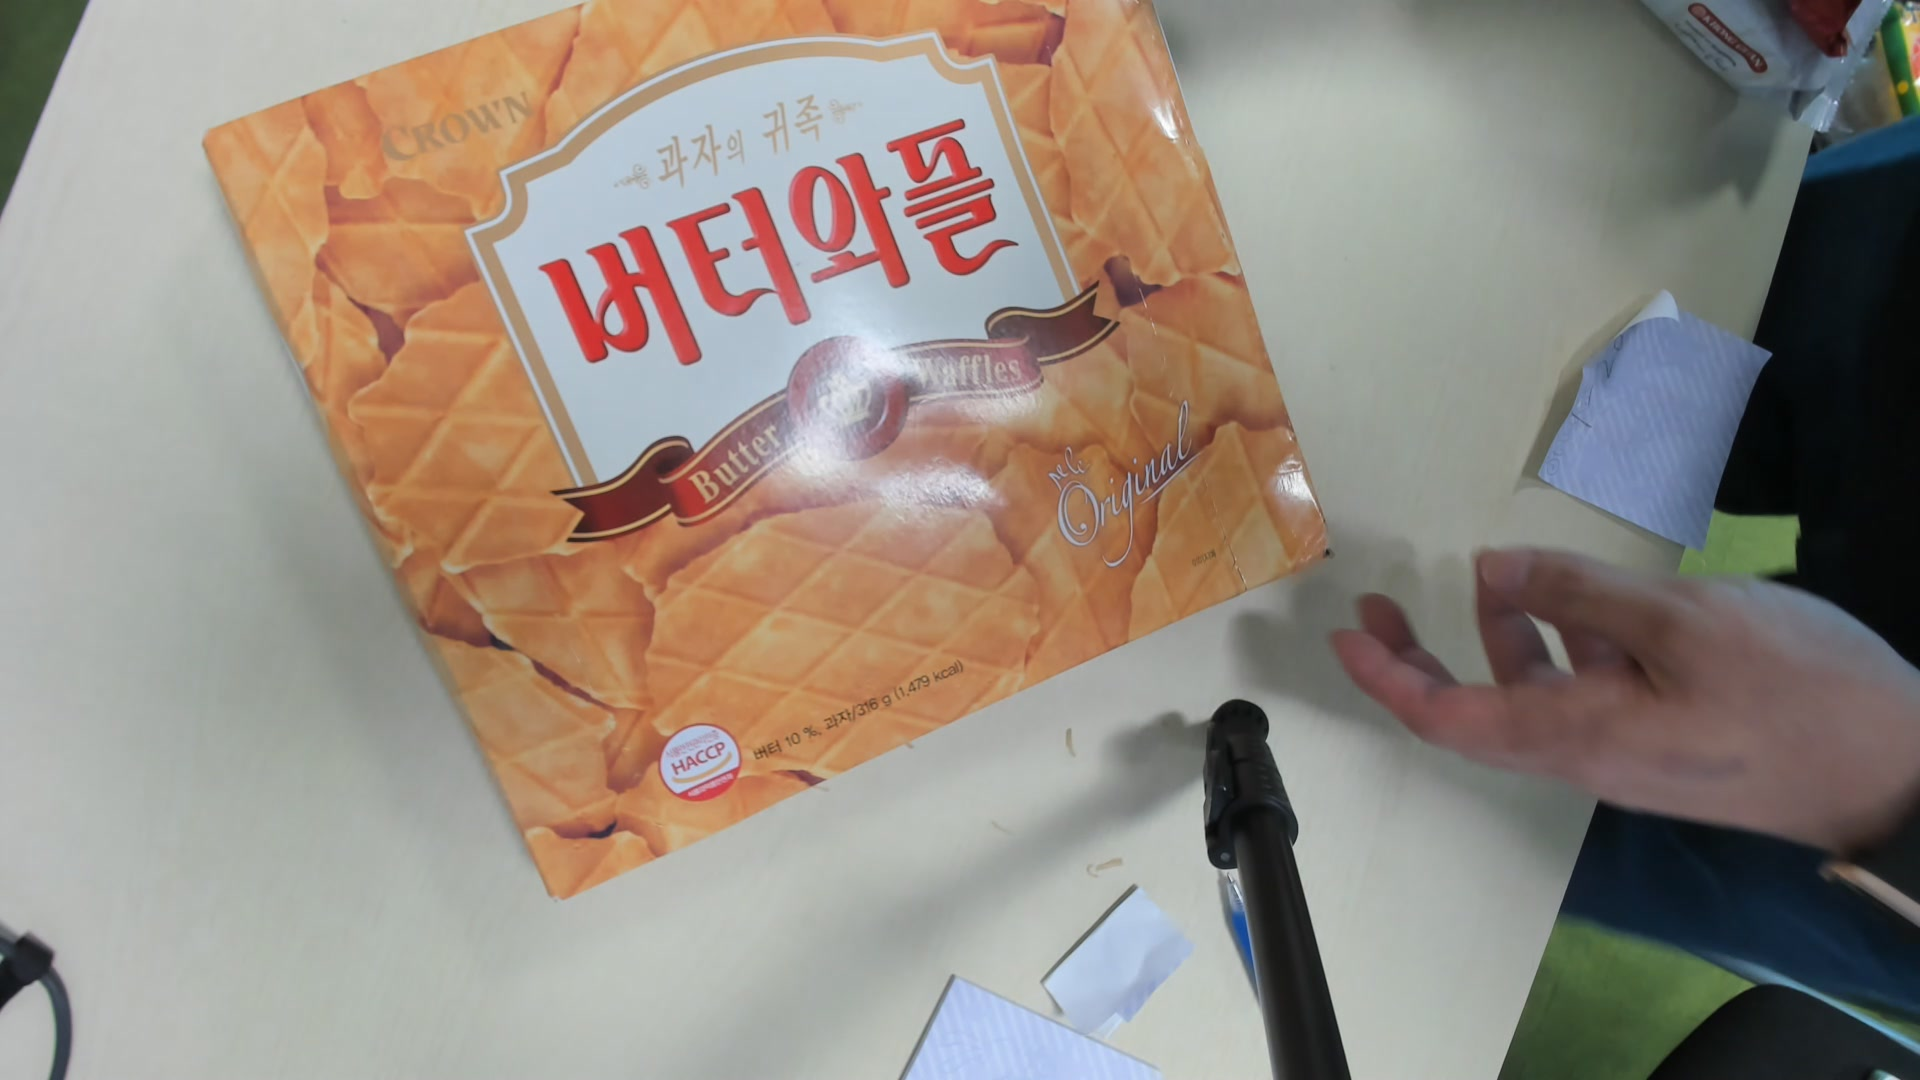BiscuitsCrackersCookies_300-399g_NonHalal_NonHealthy: (203, 3, 1338, 910)
